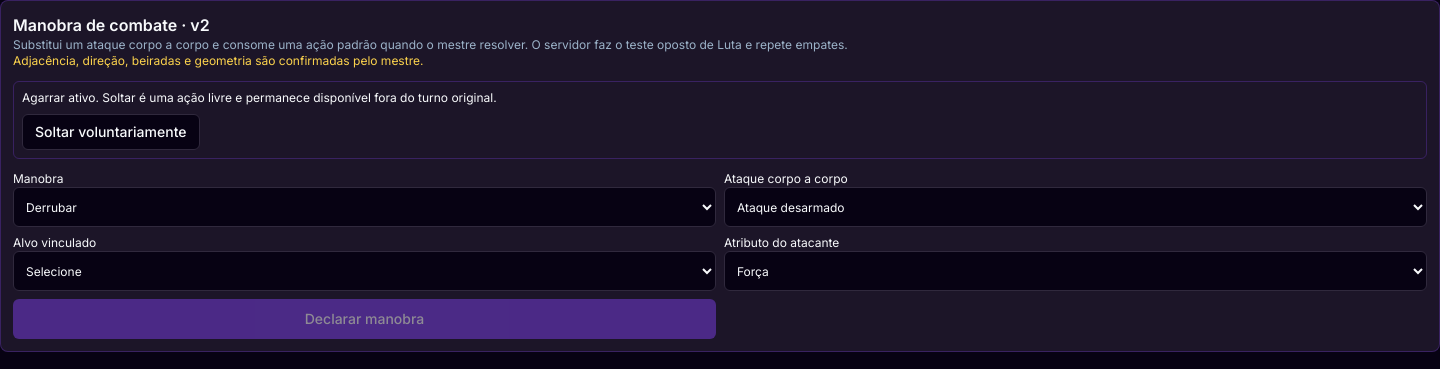
Scenario: controles compartilhados de manobra › permite ao jogador soltar voluntariamente o próprio Agarrar
What coordinates should you click on to do the following:
click the button "Soltar voluntariamente"
I would click on:
 (111, 132)
Its box is [22, 114, 200, 150].
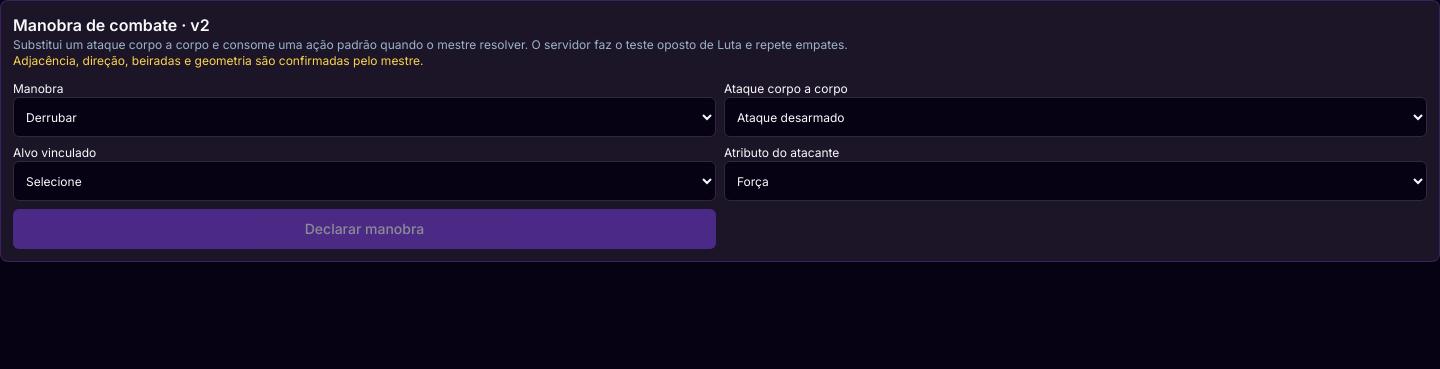
Check: the button "Soltar voluntariamente" is gone
